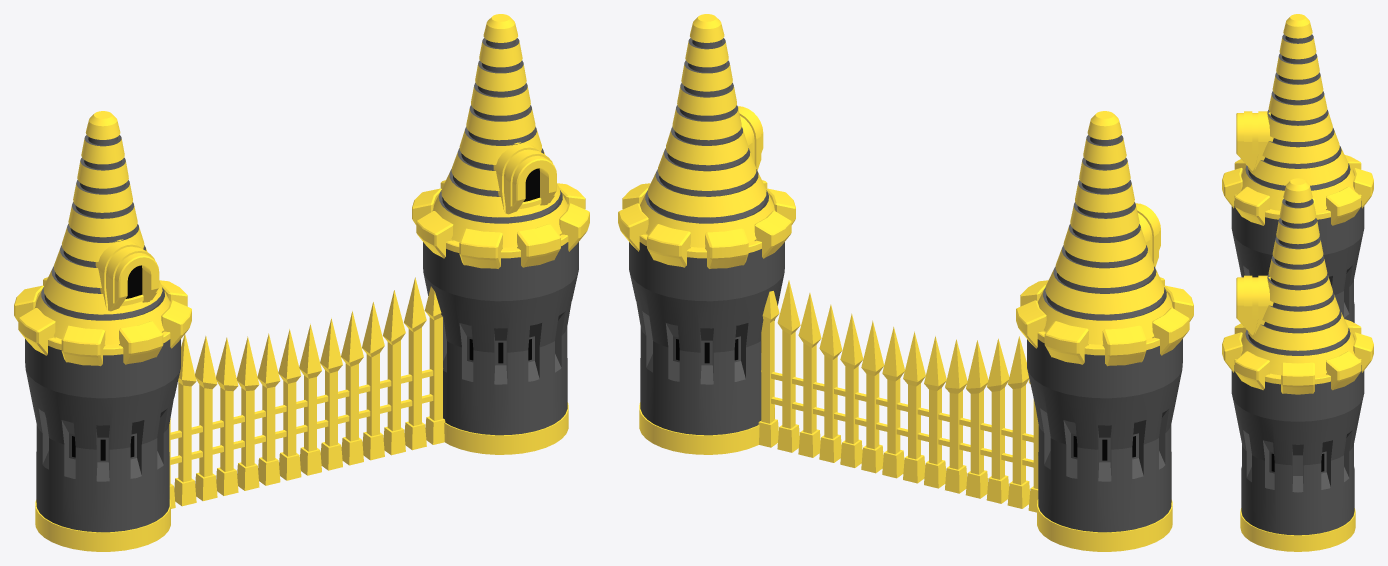
File: mage_gate_rear.fbx
3 views of the same model, side by side, from view 1: azimuth 30°, elevation 25°; view 2: azimuth 150°, elevation 25°; view 3: azimuth 270°, elevation 25° (orthographic). The views are drawn at different scales.
Visible parts, largest first — view 1: minitowers, fence; view 2: minitowers, fence; view 3: minitowers.
Part boxes in pixels (x1,y1,x2,y2): minitowers: (14, 14, 589, 551); fence: (169, 277, 445, 508); minitowers: (618, 14, 1193, 551); fence: (758, 280, 1038, 512); minitowers: (1222, 14, 1373, 551).
Bounding box in the file's own units: 15.52 × 10.95 × 4.36.
